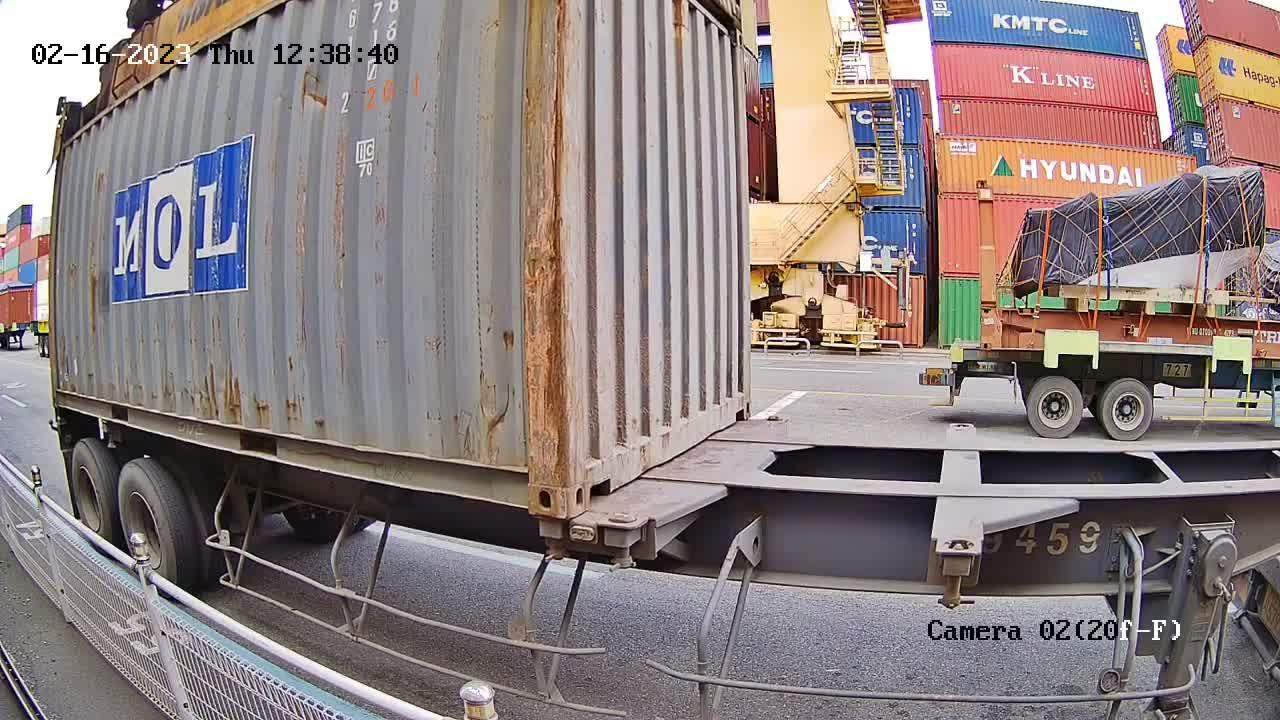Chassis: (605, 417, 791, 525)
Cone: (603, 512, 647, 571), (533, 515, 566, 560)
Hole_L: (567, 421, 623, 517)
Hole_R: (492, 433, 566, 516)
Tire: (118, 466, 179, 595), (71, 440, 120, 555)
